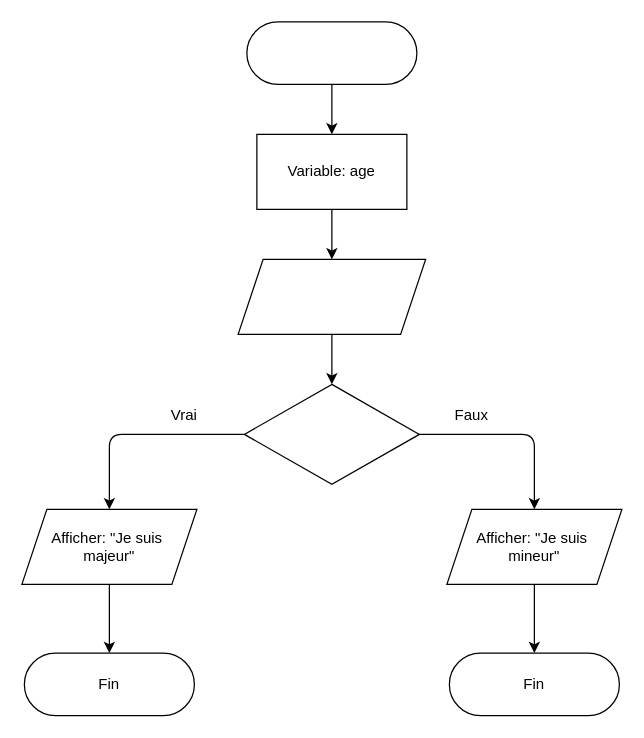
Some shapes in this 644 by 738 pixel diagram are drawn without their labels. The shapes that lost their labels are listed below. From the top down, each one's centre as x and y in pixels, then its label:
At pixel 331 52: "Début".
At pixel 331 296: "Lire: age".
At pixel 331 433: "age >= 18".
